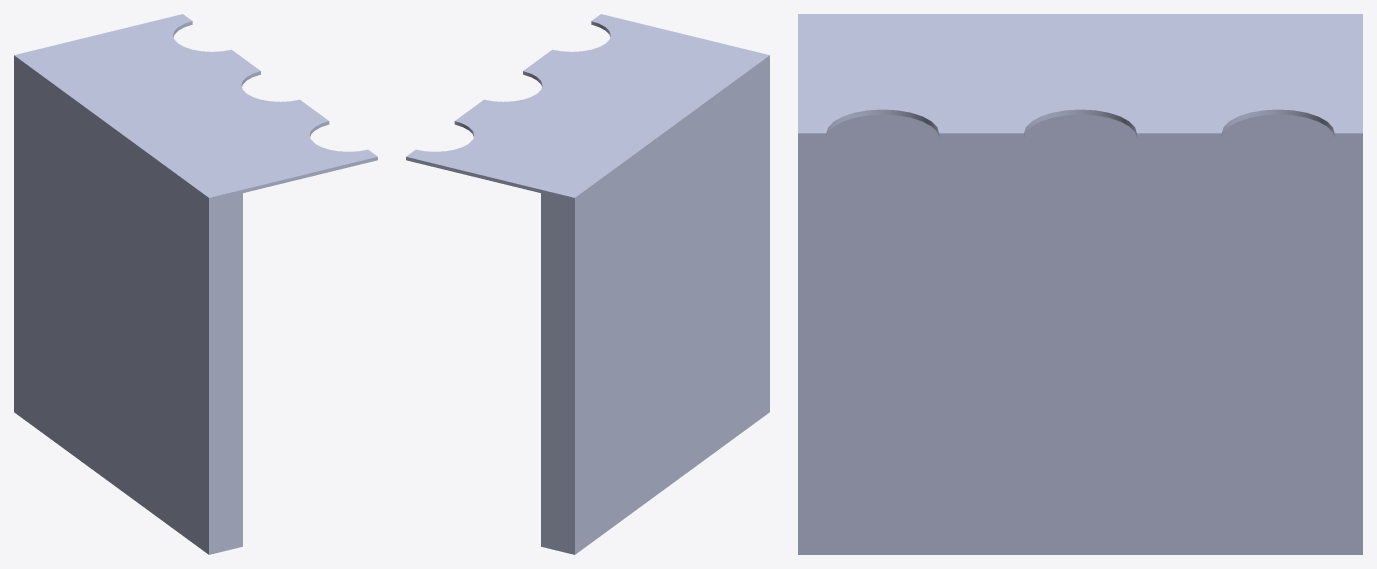
File: stallo_utensili_Kuka.glb
3 renders of one model, left to right at view 1: azimuth 30°, elevation 25°; view 2: azimuth 150°, elevation 25°; view 3: azimuth 270°, elevation 25°, orthographic. The views are drawn at different scales.
Parts seen in each view (by area): view 1: color; view 2: color; view 3: color.
Part boxes in pixels (x1,y1,x2,y2): color: (14, 14, 377, 554); color: (406, 14, 769, 554); color: (798, 14, 1362, 554).
Size of the model in its own units: 0.5 by 1.01 by 1.
